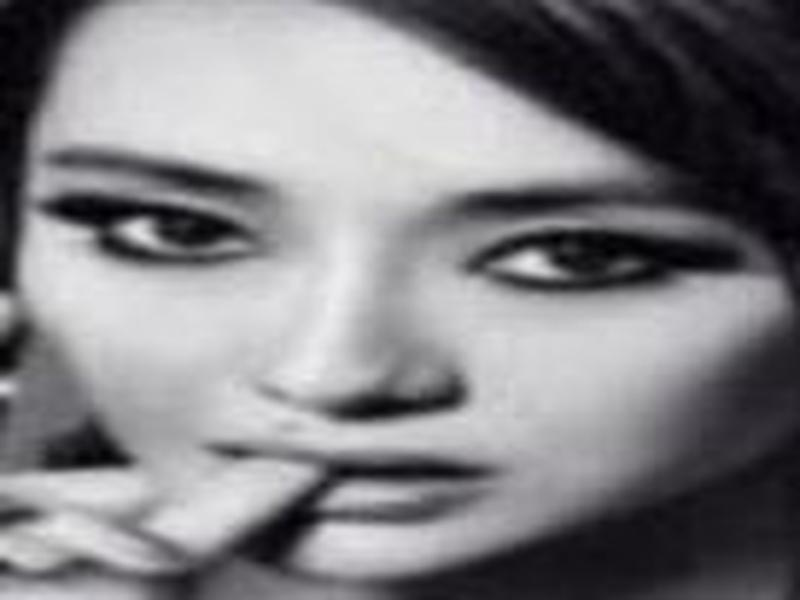without_mask: (21, 40, 759, 567)
